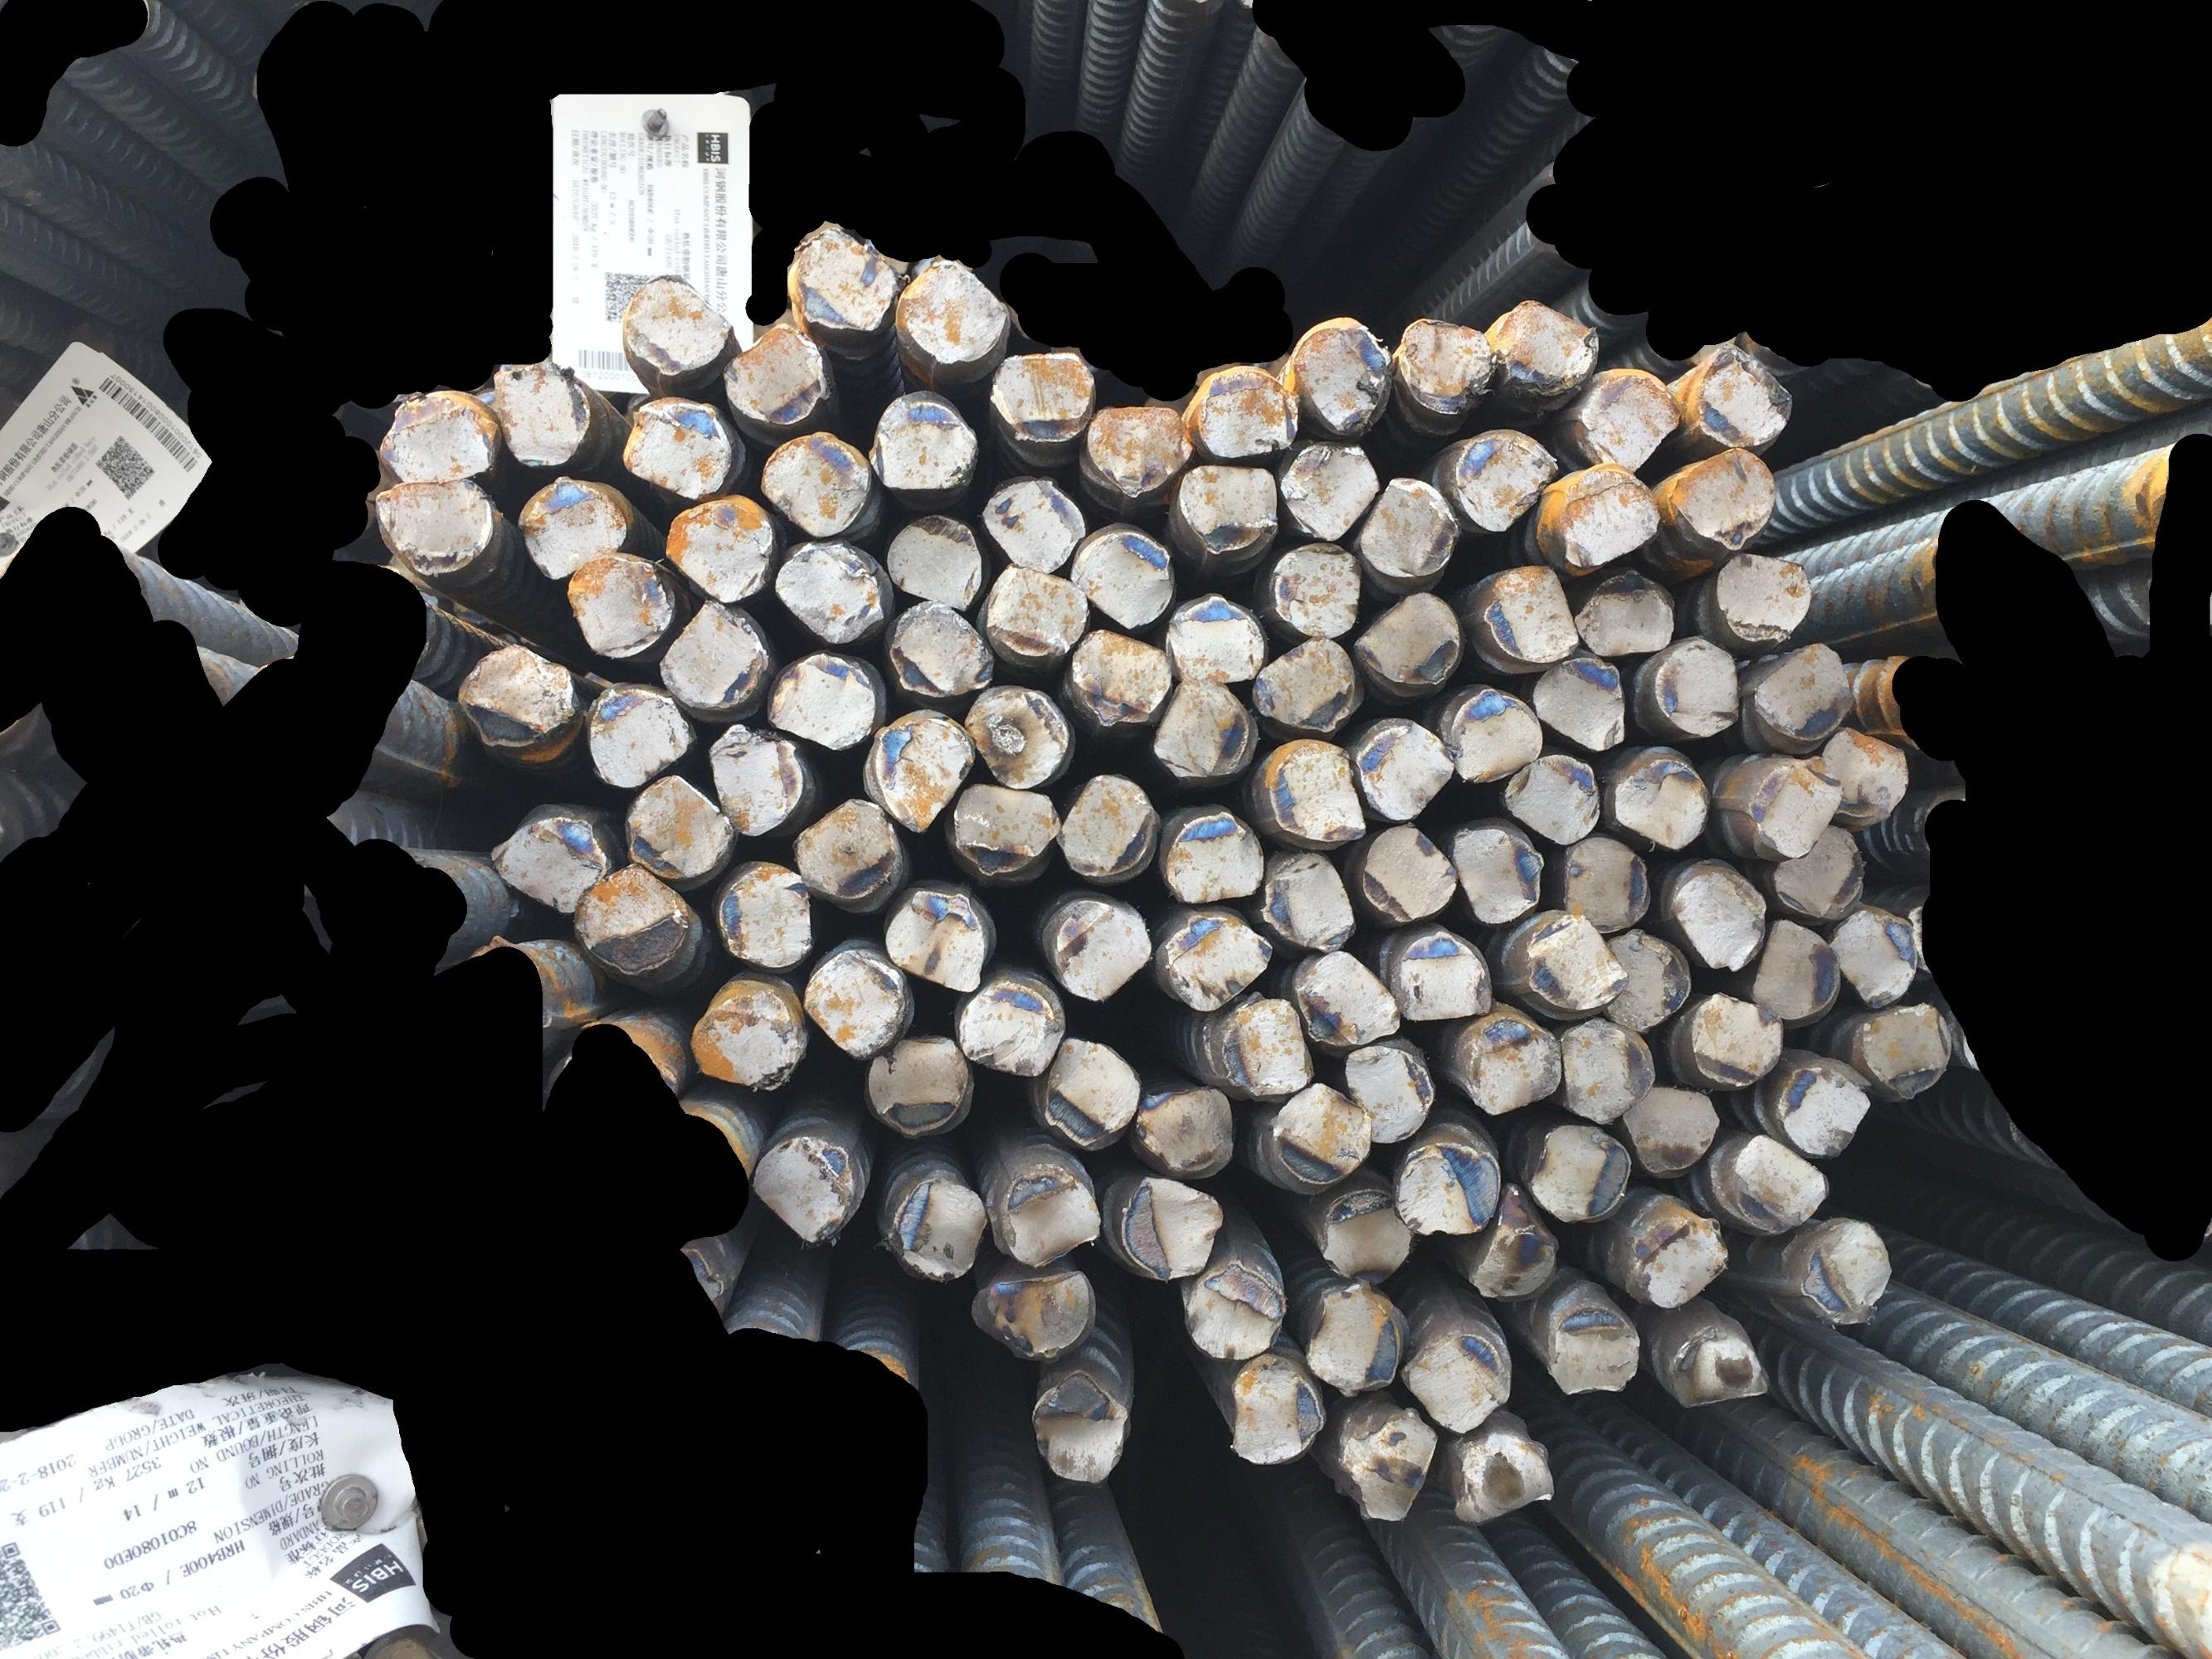bar: (887, 247, 1018, 369), (483, 796, 615, 917), (567, 857, 690, 981), (1541, 455, 1668, 575), (654, 594, 776, 716), (455, 638, 579, 756), (856, 1021, 974, 1145), (743, 1126, 859, 1249), (751, 429, 875, 545), (779, 221, 901, 338), (699, 716, 807, 847), (621, 767, 739, 885), (795, 941, 912, 1061), (790, 791, 905, 913), (765, 537, 889, 650), (657, 490, 776, 606), (1020, 1368, 1137, 1486), (580, 681, 702, 795), (615, 265, 739, 376), (614, 392, 739, 502), (865, 709, 974, 835), (1455, 1178, 1564, 1305), (511, 467, 628, 584), (1250, 734, 1370, 847), (967, 1260, 1100, 1363), (1682, 338, 1799, 453), (992, 1154, 1105, 1272), (1245, 624, 1363, 737), (861, 387, 983, 497), (1285, 317, 1394, 439), (368, 474, 497, 577), (763, 645, 882, 756), (1058, 525, 1178, 634), (1391, 1326, 1513, 1434), (1114, 1169, 1227, 1284), (1039, 896, 1154, 1009), (687, 985, 804, 1096), (713, 317, 830, 429), (978, 554, 1095, 666), (1663, 443, 1780, 554), (1347, 584, 1466, 694), (884, 1171, 992, 1291), (1550, 1009, 1658, 1129), (1262, 1077, 1377, 1188), (1492, 291, 1604, 406), (1288, 943, 1405, 1053), (1300, 1277, 1408, 1396), (1715, 1127, 1834, 1236), (1332, 1401, 1436, 1523), (1154, 911, 1278, 1014), (960, 683, 1074, 795), (486, 356, 594, 472), (560, 551, 676, 659), (713, 856, 821, 972), (974, 469, 1091, 577), (1051, 765, 1159, 882), (880, 596, 999, 702), (1388, 1136, 1506, 1243), (1354, 816, 1461, 934), (1079, 397, 1199, 502), (1225, 1347, 1328, 1469), (880, 882, 990, 995), (1063, 622, 1178, 730), (1525, 1117, 1633, 1232), (948, 974, 1065, 1080), (945, 777, 1063, 882), (1037, 1033, 1147, 1145), (1250, 849, 1361, 958), (1347, 713, 1457, 824), (1747, 636, 1858, 746), (1274, 434, 1382, 547), (1520, 906, 1633, 1014), (1447, 427, 1560, 535), (1353, 472, 1461, 584), (1572, 364, 1684, 472), (1665, 861, 1771, 974), (1189, 361, 1304, 465), (1128, 1079, 1243, 1183), (983, 347, 1100, 450), (373, 392, 502, 484), (1471, 559, 1583, 666), (1768, 819, 1876, 927), (1178, 1256, 1288, 1363), (1337, 1037, 1440, 1150), (1173, 453, 1279, 561), (1213, 990, 1318, 1100), (1605, 751, 1715, 856), (1156, 807, 1267, 910), (1445, 814, 1548, 925), (1384, 925, 1499, 1025), (1443, 681, 1550, 788), (1393, 312, 1499, 418), (1461, 1012, 1565, 1121), (1797, 1215, 1896, 1328), (1644, 629, 1743, 742), (880, 509, 987, 613), (1313, 1183, 1417, 1290), (1768, 1060, 1872, 1166), (1745, 915, 1841, 1030), (1264, 535, 1368, 640), (1682, 985, 1787, 1089), (1851, 997, 1952, 1105), (1499, 746, 1607, 847), (1708, 545, 1816, 647), (1558, 829, 1659, 936), (1150, 673, 1250, 781), (1447, 1431, 1558, 1527), (1743, 755, 1846, 857), (1161, 589, 1267, 688), (1625, 1213, 1733, 1310), (1818, 720, 1914, 829), (1569, 563, 1679, 659), (1656, 1321, 1773, 1410), (1593, 925, 1691, 1032), (1529, 650, 1628, 753), (1546, 1297, 1644, 1399), (1825, 906, 1921, 1007), (1625, 1080, 1724, 1176)
